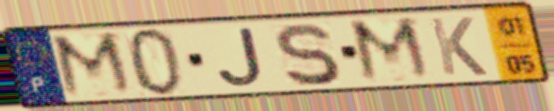0: (125, 26, 186, 98)
J: (215, 25, 267, 89)
K: (425, 15, 491, 78)
M: (345, 14, 438, 86), (47, 29, 140, 101)
S: (270, 21, 344, 89)
